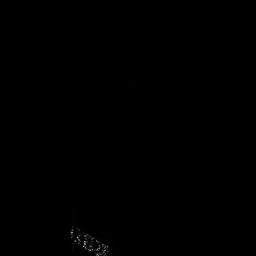ship: (68, 224, 111, 256)
